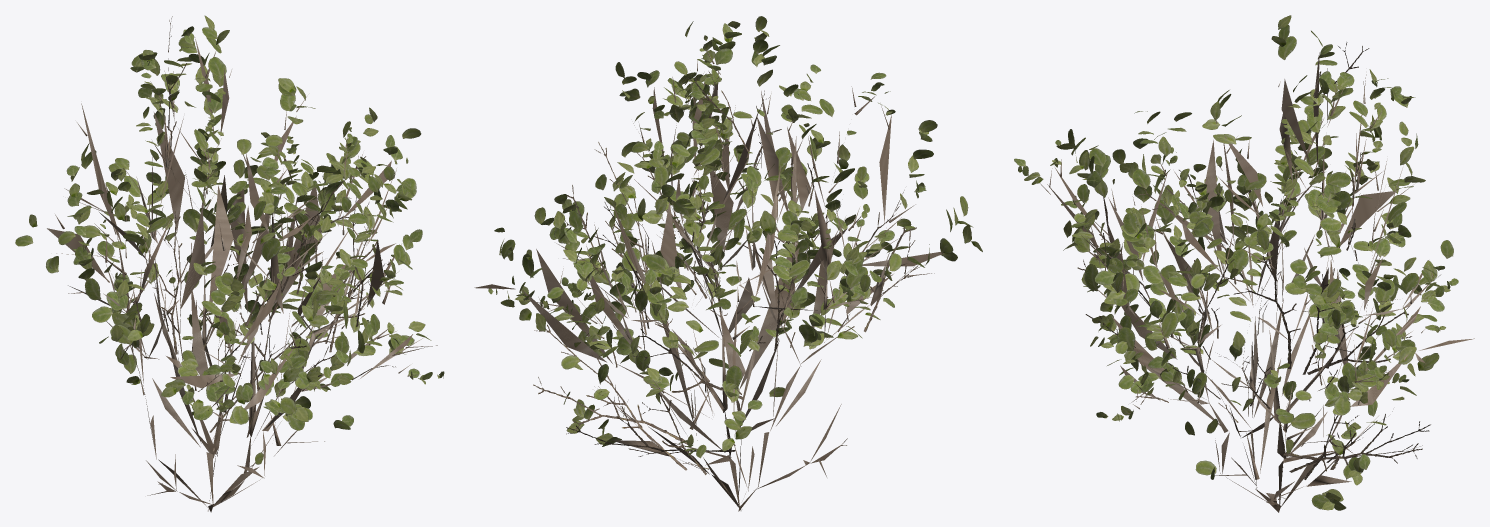
The model's file is searsia_lucida_a_LOD0.glb.
The picture shows the model from 3 angles, left to right: view 1: azimuth 30°, elevation 25°; view 2: azimuth 150°, elevation 25°; view 3: azimuth 270°, elevation 25°; orthographic projection.
Parts seen in each view (by area): view 1: searsia_lucida_a_LOD0; view 2: searsia_lucida_a_LOD0; view 3: searsia_lucida_a_LOD0.
Boxes of the visible parts, x1,y1,x2,y2 form: searsia_lucida_a_LOD0: (15, 15, 444, 512); searsia_lucida_a_LOD0: (474, 16, 982, 511); searsia_lucida_a_LOD0: (1014, 15, 1474, 512).
Size of the model in its own units: 1.78 by 2.34 by 1.97.
3 materials, 3 textured.
